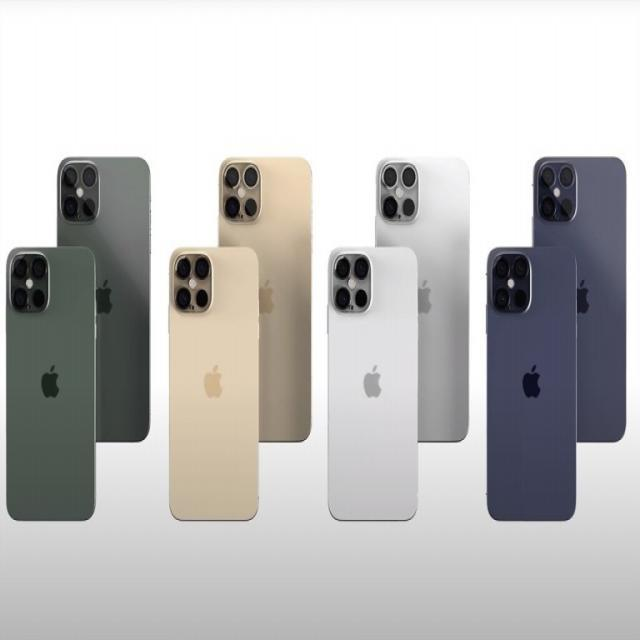phone: (5, 247, 97, 522), (485, 246, 576, 522), (327, 246, 418, 522), (168, 247, 259, 521)
